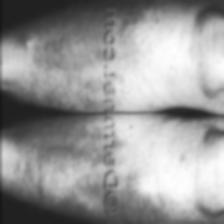Unclassified: (17, 122, 103, 218), (26, 20, 98, 102), (118, 176, 159, 216), (121, 3, 144, 41)
